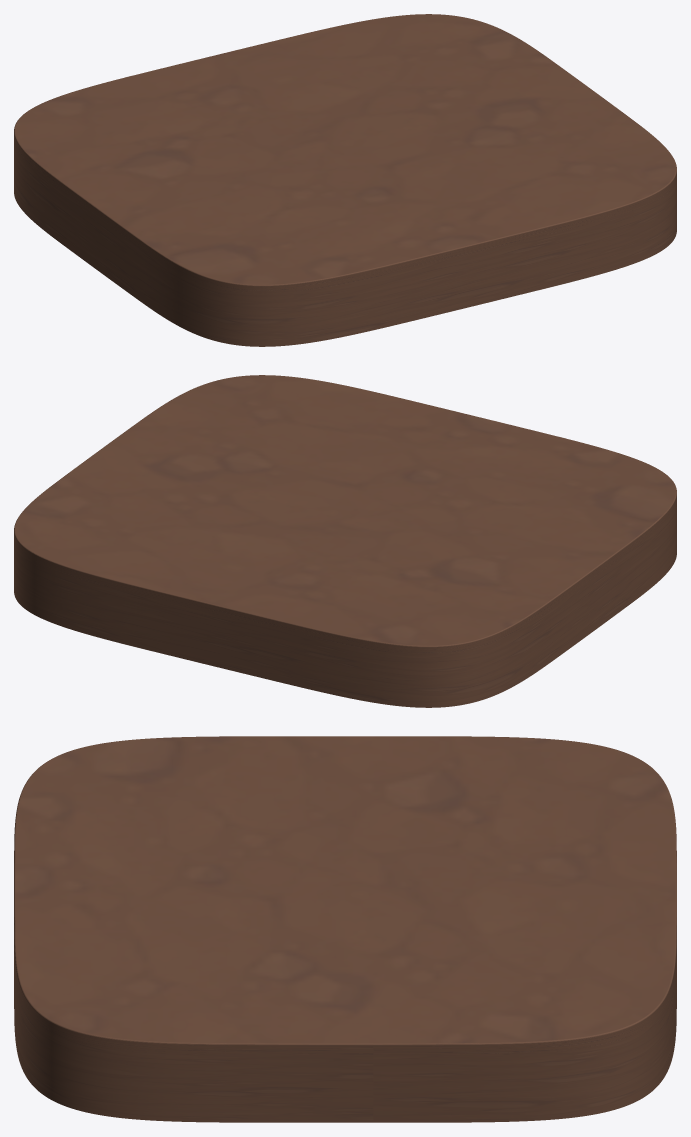
The model's file is starter-07.glb.
3 renders of one model, top to bottom at view 1: azimuth 30°, elevation 25°; view 2: azimuth 150°, elevation 25°; view 3: azimuth 270°, elevation 25°, orthographic. The views are drawn at different scales.
Visible parts, largest first — view 1: geometry_0; view 2: geometry_0; view 3: geometry_0.
Boxes of the visible parts, x1,y1,x2,y2 form: geometry_0: (14, 14, 676, 346); geometry_0: (14, 375, 676, 707); geometry_0: (14, 736, 676, 1122).
Bounding box in the file's own units: 50.33 × 6 × 45.76.
Materials: 1 (1 with a texture image).
